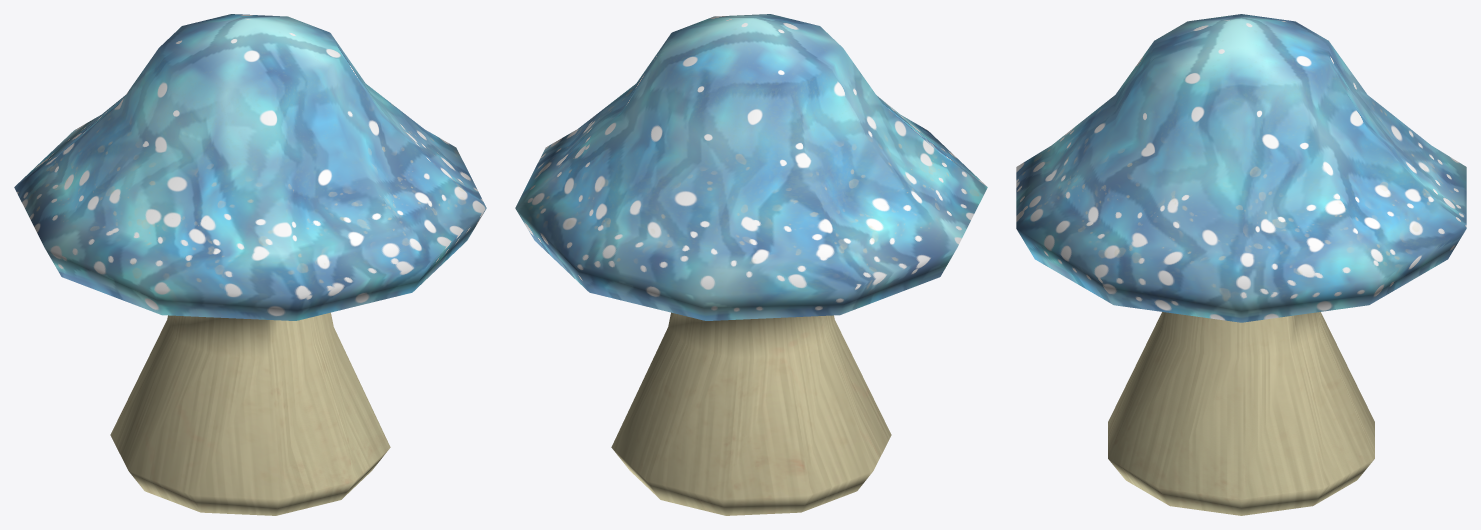
File: smallmushroom_textured_rae.fbx
The picture shows the model from 3 angles, left to right: view 1: azimuth 30°, elevation 25°; view 2: azimuth 150°, elevation 25°; view 3: azimuth 270°, elevation 25°; orthographic projection.
Visible parts, largest first — view 1: SmallShroom; view 2: SmallShroom; view 3: SmallShroom.
Boxes of the visible parts, <box> form: SmallShroom: <box>14,14,486,515</box>; SmallShroom: <box>515,14,987,515</box>; SmallShroom: <box>1016,14,1466,515</box>.
Size of the model in its own units: 0.234 by 0.2422 by 0.2226.
Materials: 1 (1 with a texture image).
